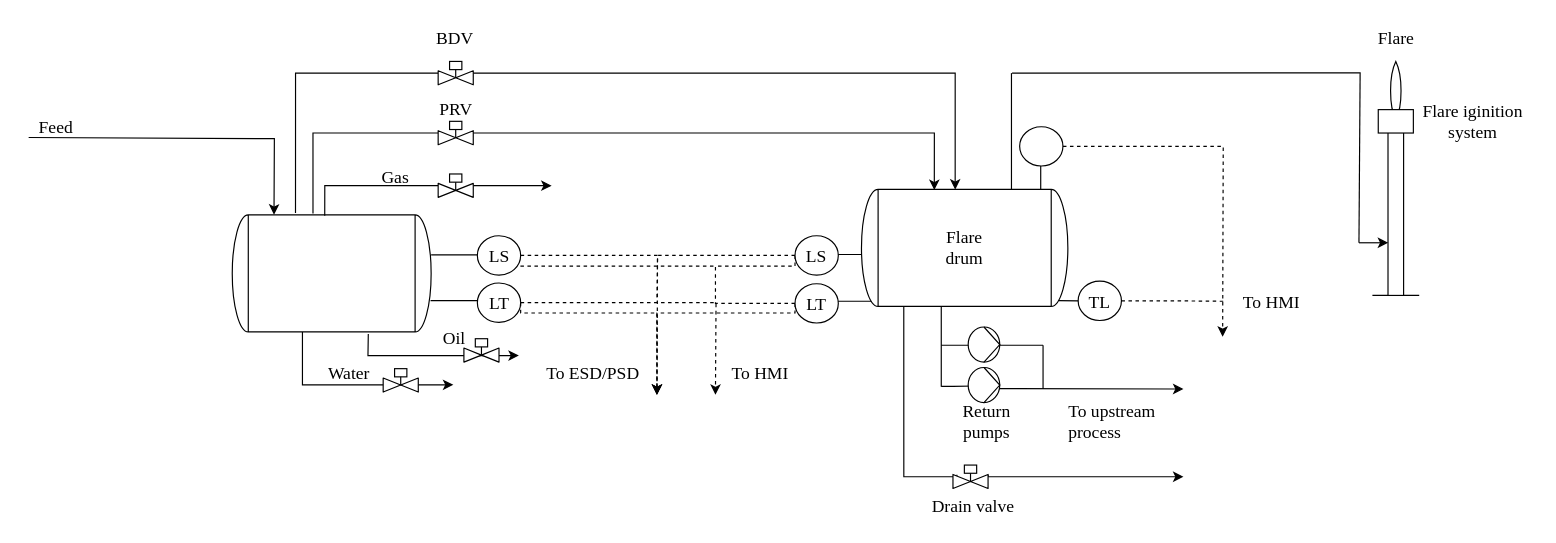
Image size: 1556x543. Some labels were removed from this diagram. Each missing label, with the centre of its shape:
Separator: [331,273]
TG: [1040,146]
